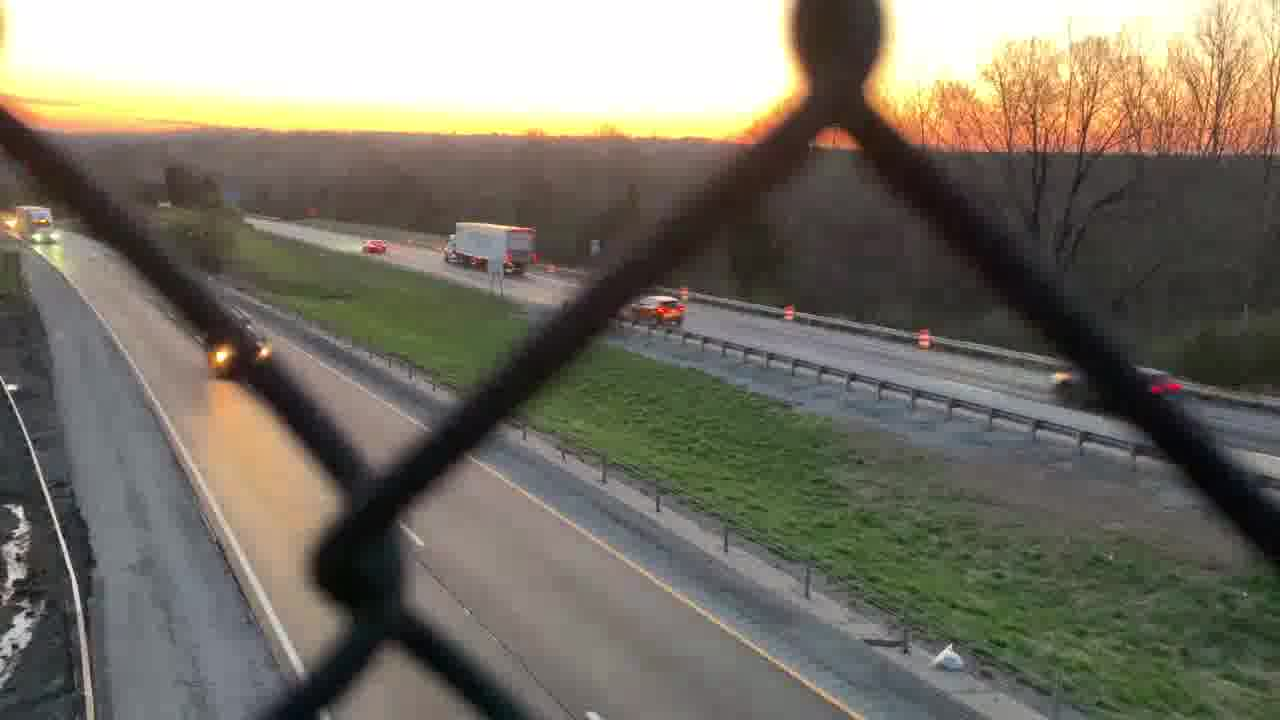heavyTruck: (440, 220, 542, 275), (16, 203, 59, 245)
largeCar: (1052, 356, 1181, 414), (627, 291, 687, 328)
vehicle: (362, 237, 386, 255)
